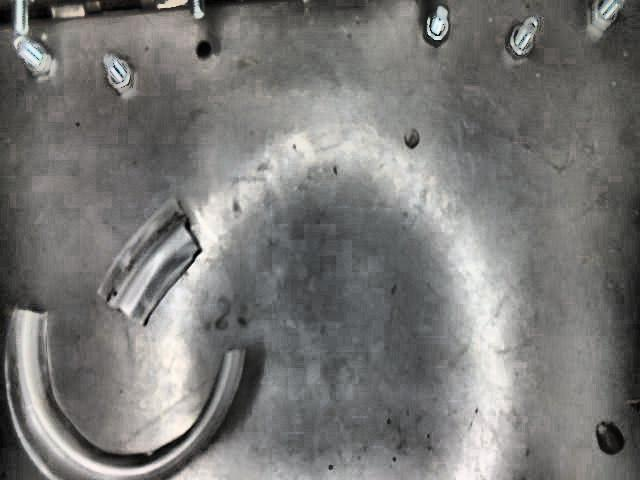Plastic: (0, 178, 264, 480)
